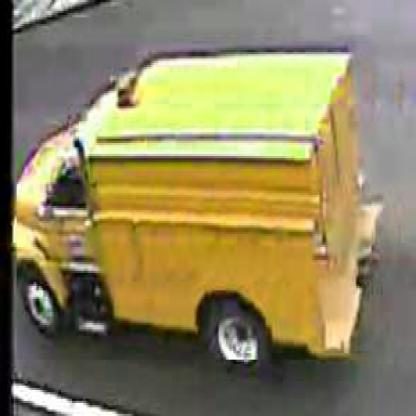truck: (16, 42, 373, 363)
